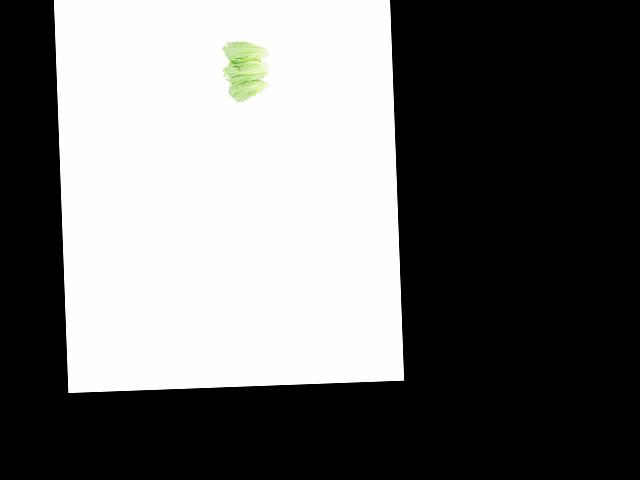lettuce: (226, 76, 279, 102)
